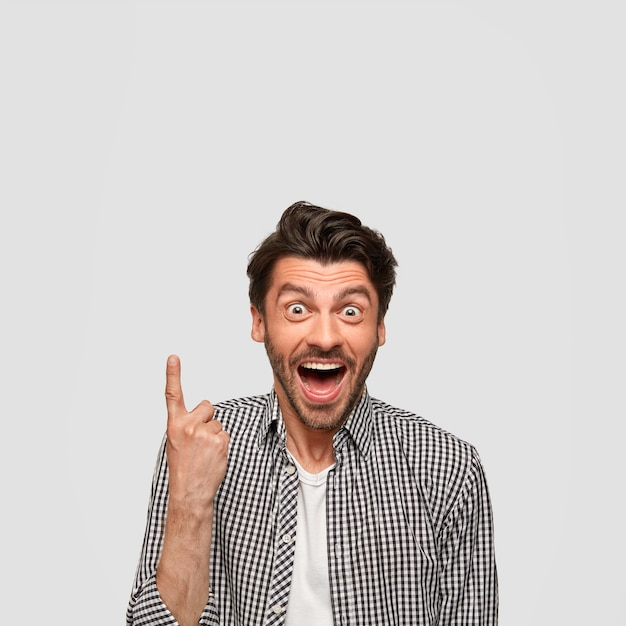young: (248, 187, 399, 441)
